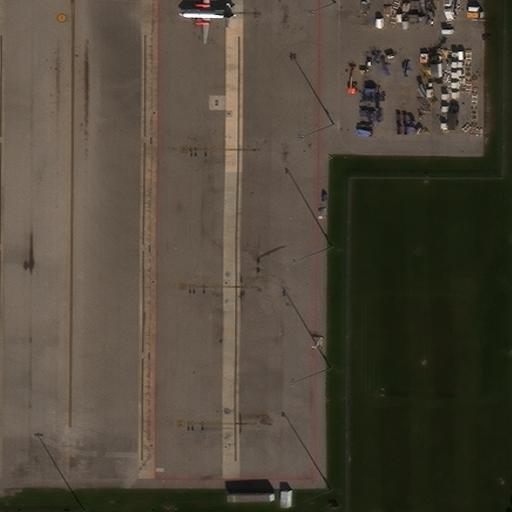Medium Civil Transport: (177, 0, 236, 44)
